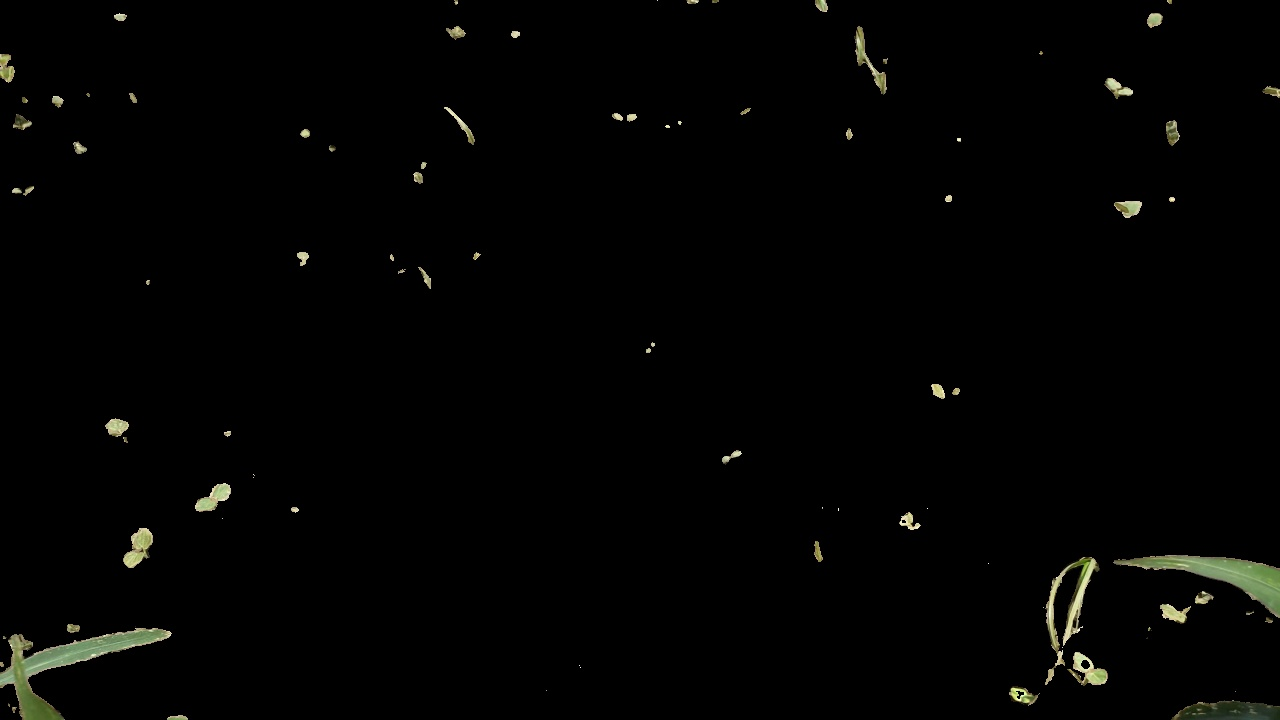crop: (1041, 492, 1280, 720), (1, 611, 201, 718)
weed: (87, 415, 151, 451), (113, 524, 153, 572), (1065, 652, 1115, 687), (188, 475, 233, 512), (1105, 69, 1148, 102)
